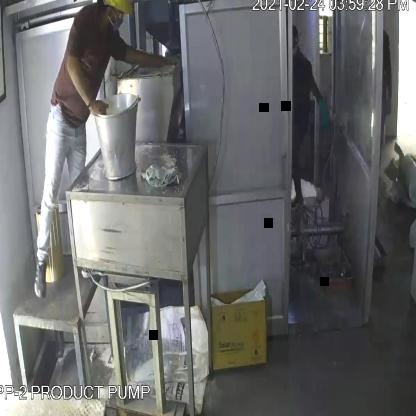helmet: (96, 0, 132, 22)
